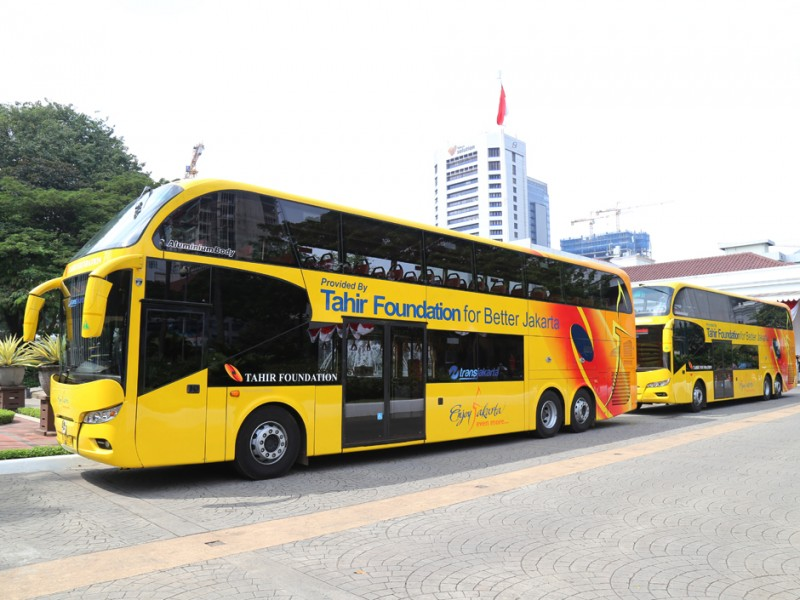bus: (49, 174, 641, 478)
